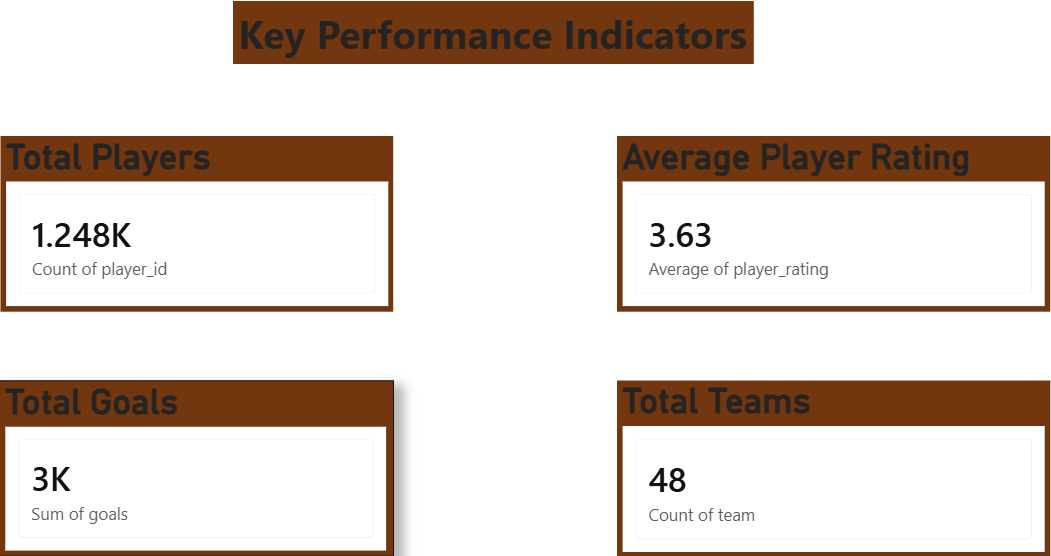

This screenshot's page, from the dashboard's own definition file:
{"tool":"powerbi","page":{"name":"Page 1","canvas":[1280,720],"ordinal":0},"visuals":[{"type":"cardVisual","title":"Total Players","fields":{"Data":["Count(fifa_Cleaned.player_id)"]},"box":[41.4,162.9,374.3,167.1],"z":0},{"type":"cardVisual","title":"Average Player Rating","fields":{"Data":["Avg(fifa_Cleaned.player_rating)"]},"box":[628.6,162.9,412.9,167.1],"z":1000},{"type":"cardVisual","title":"Total Goals","fields":{"Data":["Sum(fifa_Cleaned.goals)"]},"box":[40,395.7,375.7,168.6],"z":2000},{"type":"cardVisual","title":"Total Teams","fields":{"Data":["Count(fifa_Cleaned.team)"]},"box":[628.6,395.7,412.9,168.6],"z":3000},{"type":"textbox","box":[262.9,34.3,495.7,60],"z":4000}]}

Visuals, with their boxes on the page's 1280x720 design canvas (x1, y1, x2, y2). These are canvas units, not pixel positions in the 1051x556 screenshot, which may show the page scaled, cropped or inside an application window:
"Total Players" cardVisual: x1=41, y1=163, x2=416, y2=330
"Average Player Rating" cardVisual: x1=629, y1=163, x2=1042, y2=330
"Total Goals" cardVisual: x1=40, y1=396, x2=416, y2=564
"Total Teams" cardVisual: x1=629, y1=396, x2=1042, y2=564
textbox: x1=263, y1=34, x2=759, y2=94
